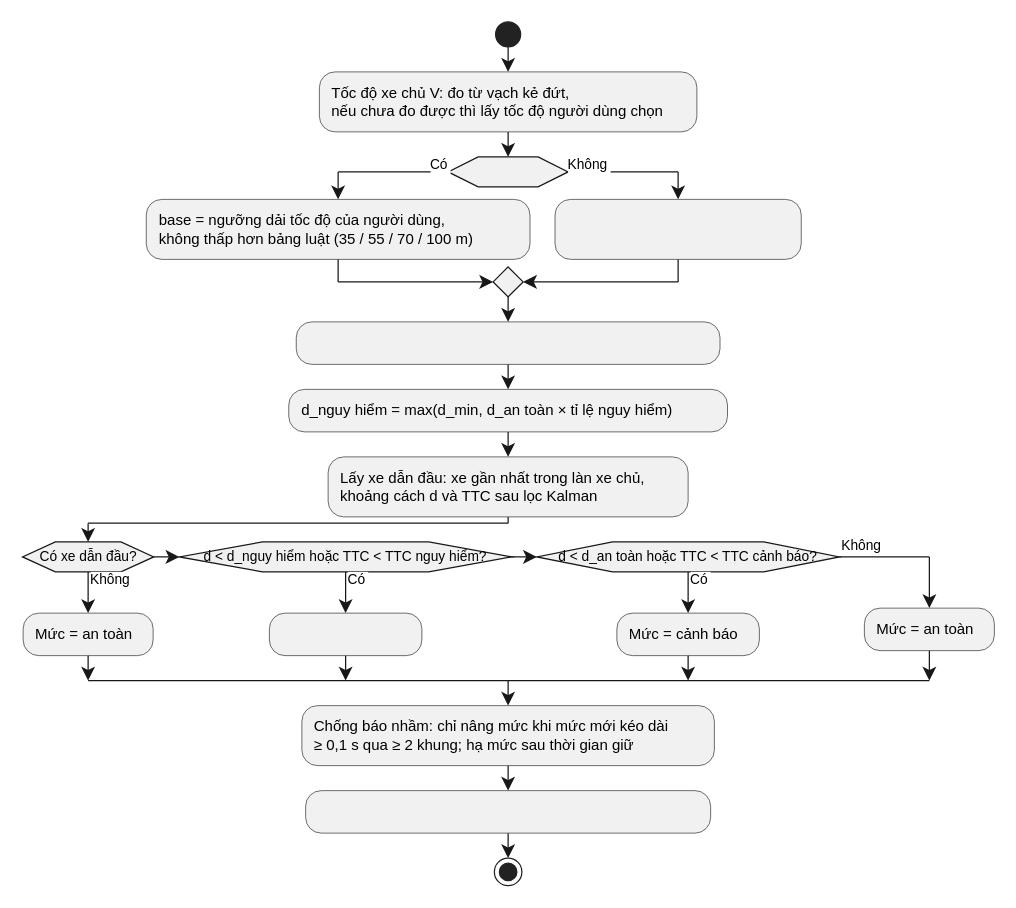
Some shapes in this 1016 by 908 pixel diagram are drawn without their labels. The shapes that lost their labels are listed below. From the top down, each one's centre as x and y in pixels, then its label:
(x=507, y=171): V ≥ 60 km/h?
(x=677, y=228): base = V × giãn cách thời gian (mặc định 2 giây)
(x=507, y=342): d_an toàn = max(base, d_min) × hệ số điều kiện đường
(x=345, y=633): Mức = nguy hiểm
(x=507, y=811): Đổi màu khung xe, banner, phát âm thanh theo mức
